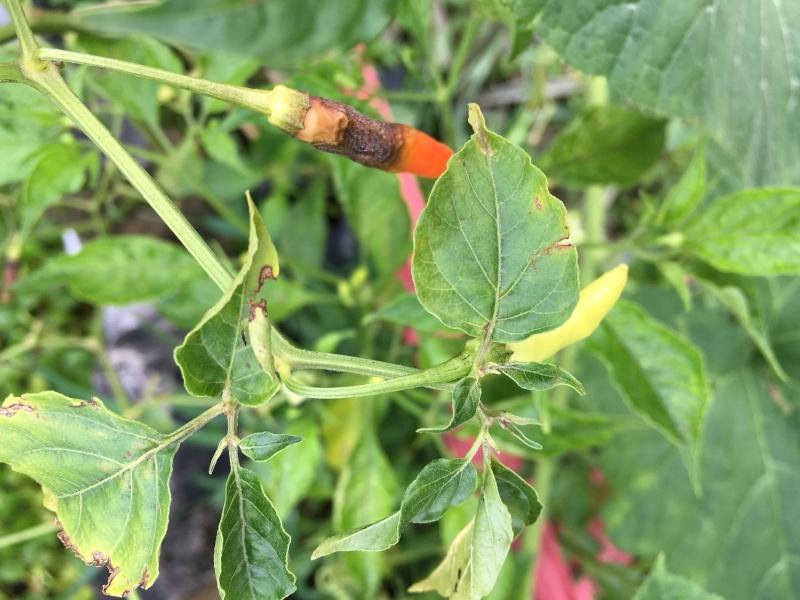antraknosa: (296, 96, 457, 178)
cabai_normal: (493, 264, 628, 363)
